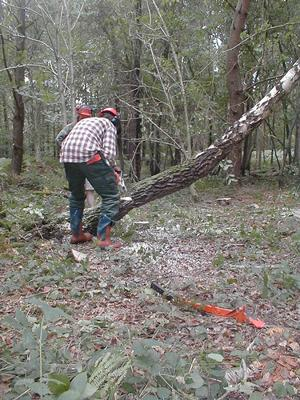person: (58, 104, 123, 251)
